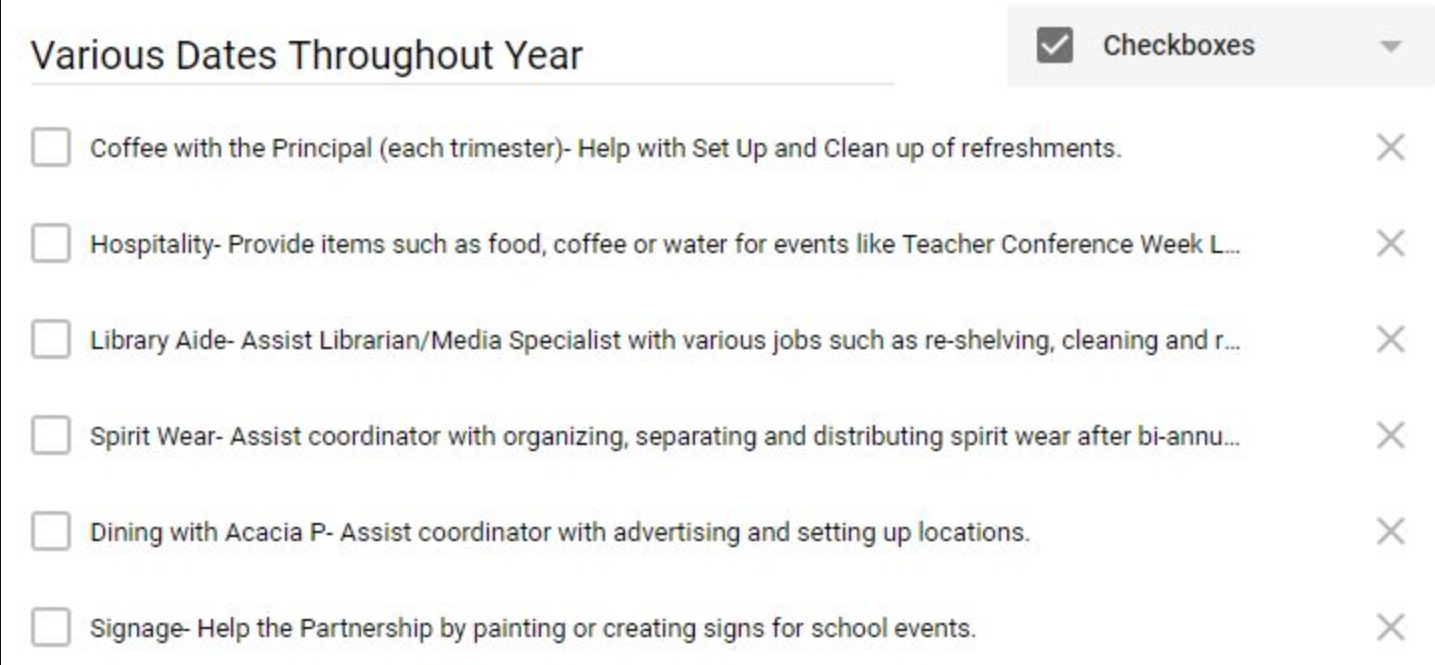checkbox: (24, 117, 80, 175), (24, 412, 77, 464), (23, 313, 78, 363), (23, 601, 77, 651), (24, 507, 77, 554), (28, 217, 75, 267)
